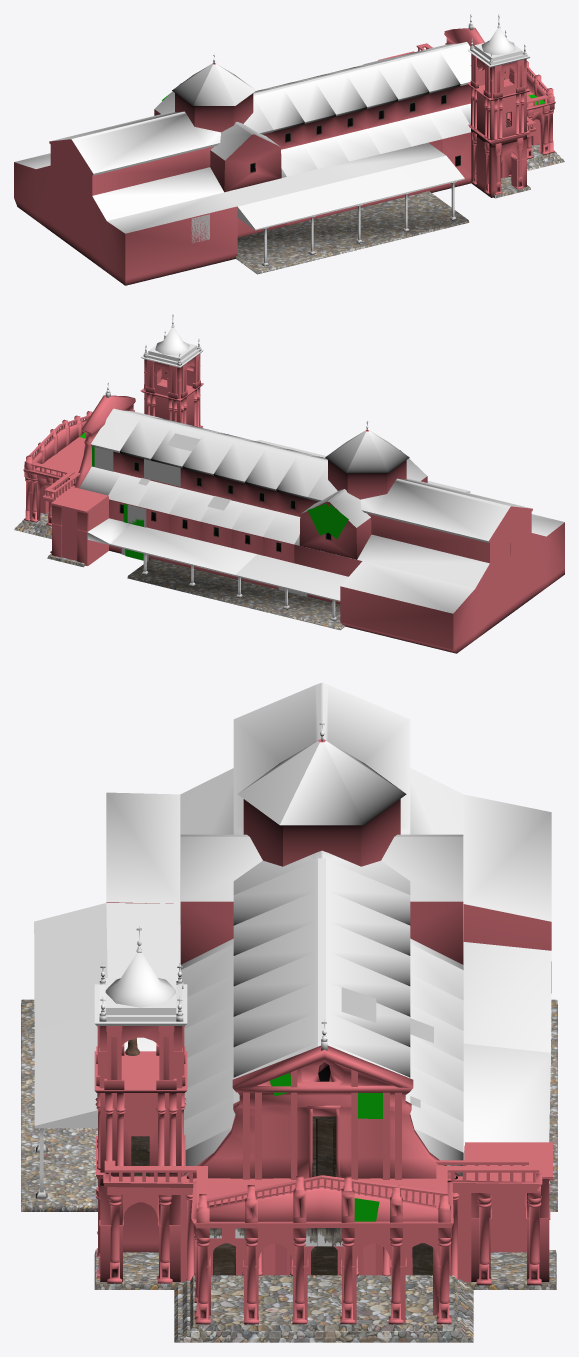
The model's file is Igreja.fbx.
3 renders of one model, top to bottom at view 1: azimuth 30°, elevation 25°; view 2: azimuth 150°, elevation 25°; view 3: azimuth 270°, elevation 25°, orthographic. The views are drawn at different scales.
Parts seen in each view (by area): view 1: Main, Main.002, Cube.033, Chao.006, SalaLateral, Domo, Cube.003, Main.003, Cube.001, ParedeSino.001, ArcosFrontais.005, Cube.032 (+13 smaller); view 2: Main, Main.002, Cube.020, Chao.006, Domo, SalaLateral, Main.003, Cube.014, Cube.003, ChaoVaranda, ParedeSino.001, Cube.013 (+13 smaller); view 3: Main.002, Main, Cube.033, Cube.020, Cube.014, Chao.001, Domo, SalaLateral, Chao.006, Cube.003, PilastrasFrente, Main.001 (+26 smaller).
Boxes of the visible parts, x1,y1,x2,y2 form: Main: (14, 98, 286, 285); Main.002: (253, 49, 471, 225); Cube.033: (219, 143, 464, 230); Chao.006: (236, 191, 469, 274); SalaLateral: (154, 83, 281, 192); Domo: (172, 63, 256, 132); Cube.003: (467, 79, 530, 147); Main.003: (418, 42, 471, 124); Cube.001: (471, 132, 501, 197); ParedeSino.001: (470, 54, 526, 98); ArcosFrontais.005: (501, 124, 527, 187); Cube.032: (262, 181, 456, 266); Main: (294, 465, 564, 653); Main.002: (108, 415, 327, 589); Cube.020: (87, 518, 348, 601); Chao.006: (127, 558, 345, 630); Domo: (325, 430, 409, 499); SalaLateral: (299, 450, 427, 559); Main.003: (79, 408, 162, 495); Cube.014: (73, 395, 135, 488); Cube.003: (140, 379, 203, 426); ChaoVaranda: (35, 437, 85, 502); ParedeSino.001: (144, 354, 200, 398); Cube.013: (51, 487, 108, 513); Main.002: (181, 858, 463, 1152); Main: (106, 682, 551, 993); Cube.033: (34, 903, 180, 1128); Cube.020: (463, 942, 551, 1183); Cube.014: (184, 1045, 460, 1178); Chao.001: (174, 1275, 473, 1342); Domo: (237, 739, 406, 866); SalaLateral: (180, 834, 463, 964); Chao.006: (21, 999, 557, 1211); Cube.003: (94, 1051, 187, 1185); PilastrasFrente: (195, 1235, 451, 1324); Main.001: (180, 1193, 471, 1282).
Bounding box in the file's own units: 6702 × 2431 × 3412.
